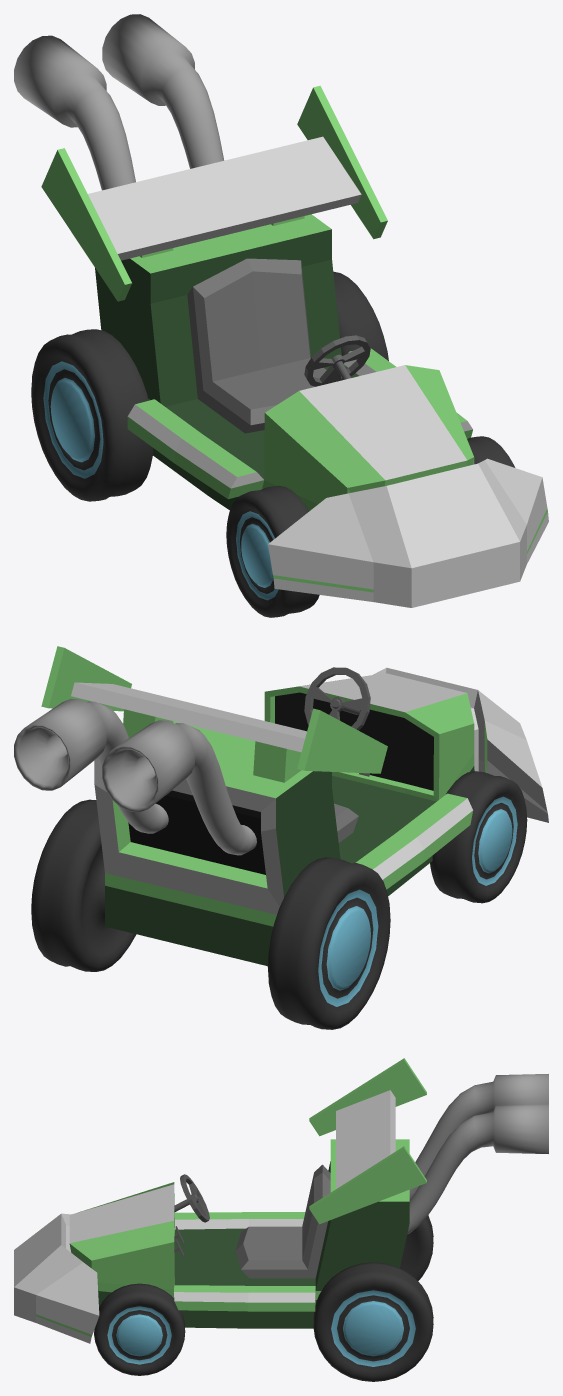
The model's file is GoKart.fbx.
3 views of the same model, one above another, from view 1: azimuth 30°, elevation 25°; view 2: azimuth 150°, elevation 25°; view 3: azimuth 270°, elevation 25° (orthographic). The views are drawn at different scales.
Parts seen in each view (by area): view 1: Cylinder; view 2: Cylinder; view 3: Cylinder.
Boxes of the visible parts, x1=… form: Cylinder: x1=14, y1=14, x2=548, y2=617; Cylinder: x1=14, y1=646, x2=548, y2=1029; Cylinder: x1=14, y1=1058, x2=548, y2=1381.
Size of the model in its own units: 318 by 374 by 739.
